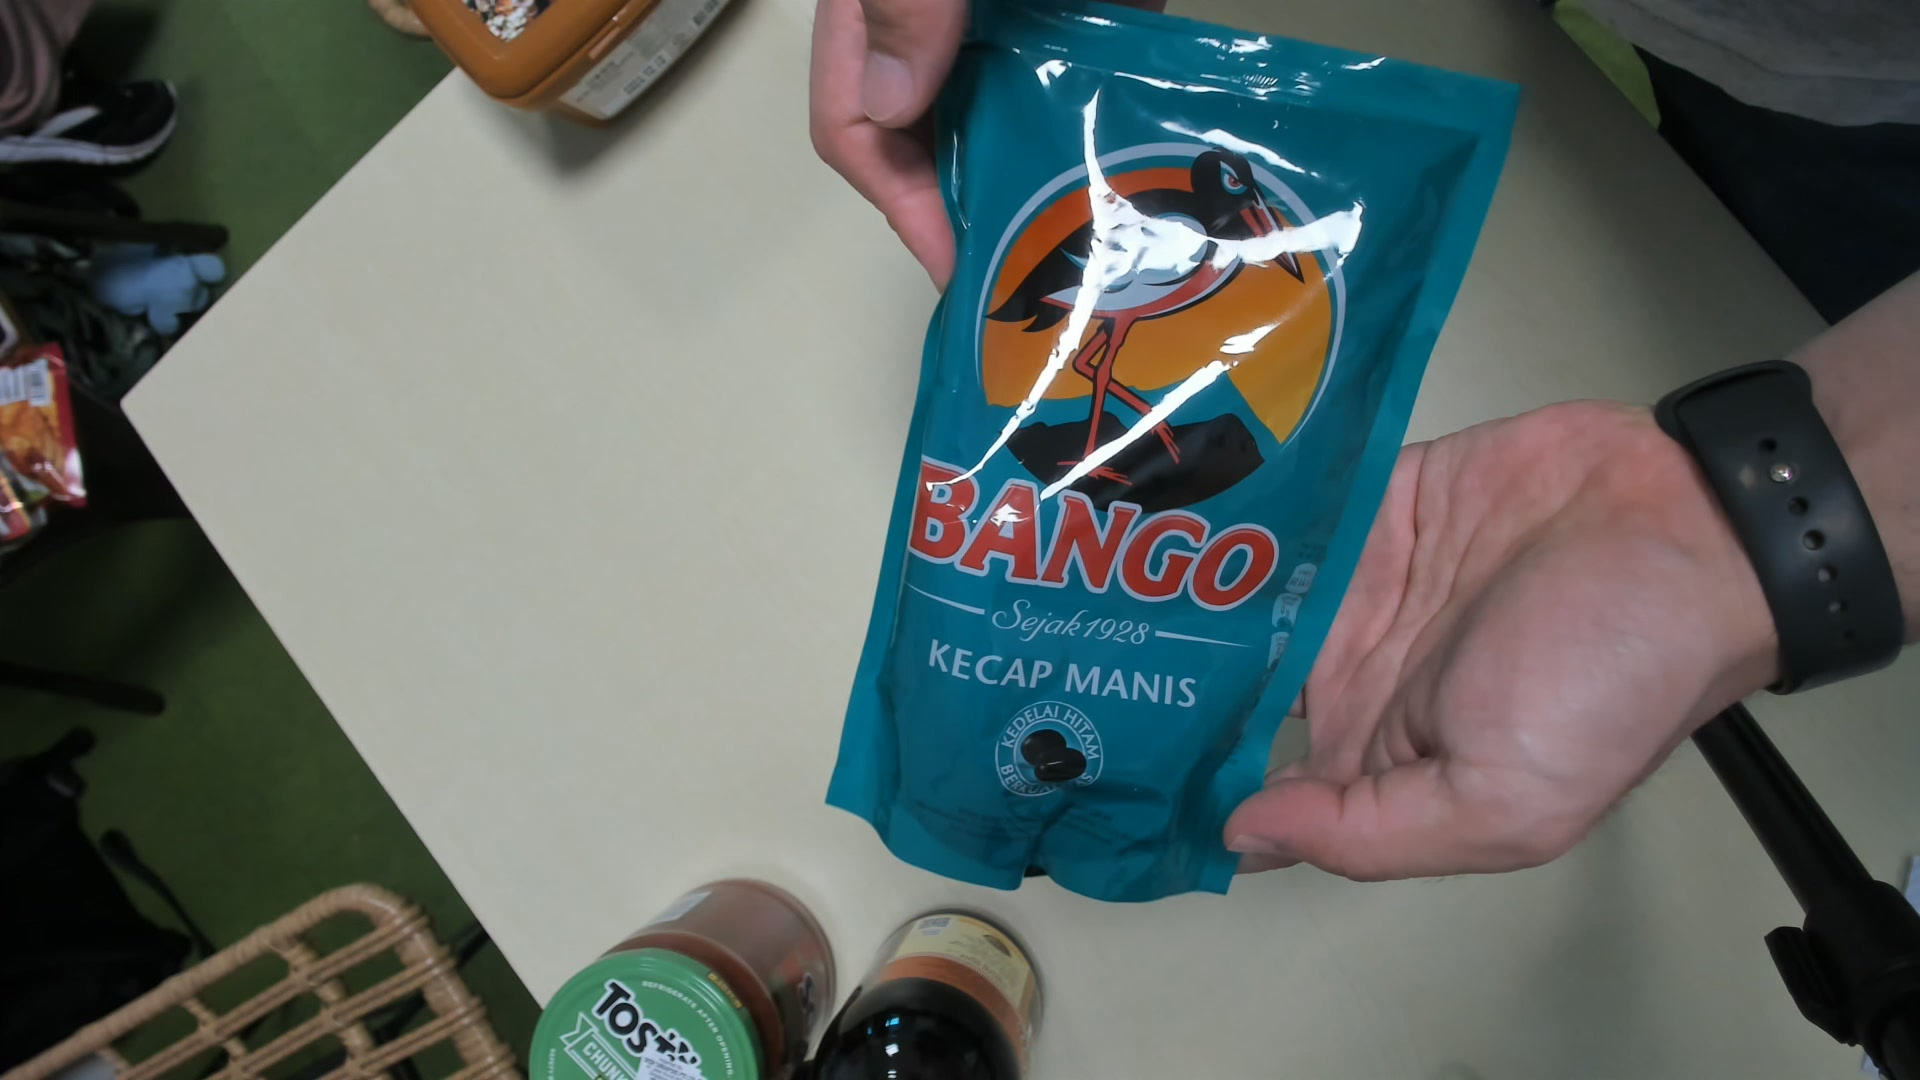OtherSauceDressing_500-599g_NonHalal_NonHealthy: (844, 12, 1491, 893)
